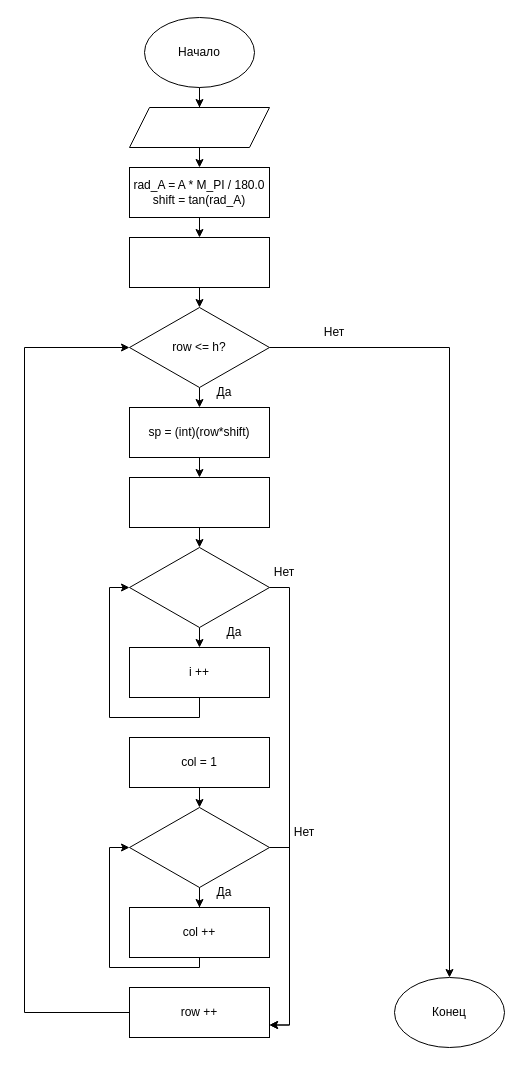
Some shapes in this 522 by 1065 pixel diagram are drawn without their labels. The centre of each missing label's shape, as x and y in pixels:
"col <= a?" belongs at point (199, 847).
"i < sp?" belongs at point (199, 587).
"i = 0" belongs at point (199, 502).
"row = 1" belongs at point (199, 262).
"Ввод ch, h, a, A" belongs at point (199, 127).
